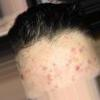Acne: (69, 60, 84, 74), (75, 47, 87, 55), (16, 73, 26, 82)
